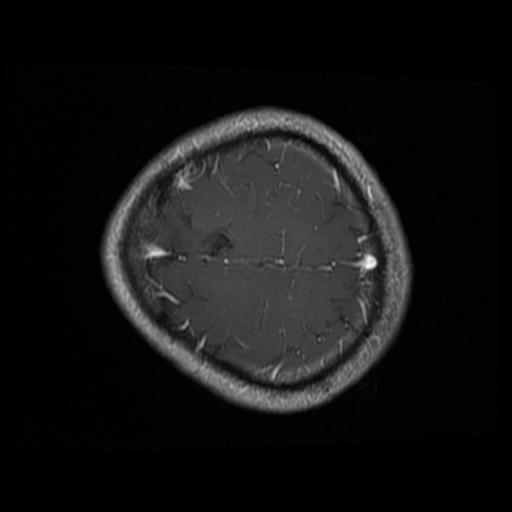glioma: (197, 226, 232, 262)
